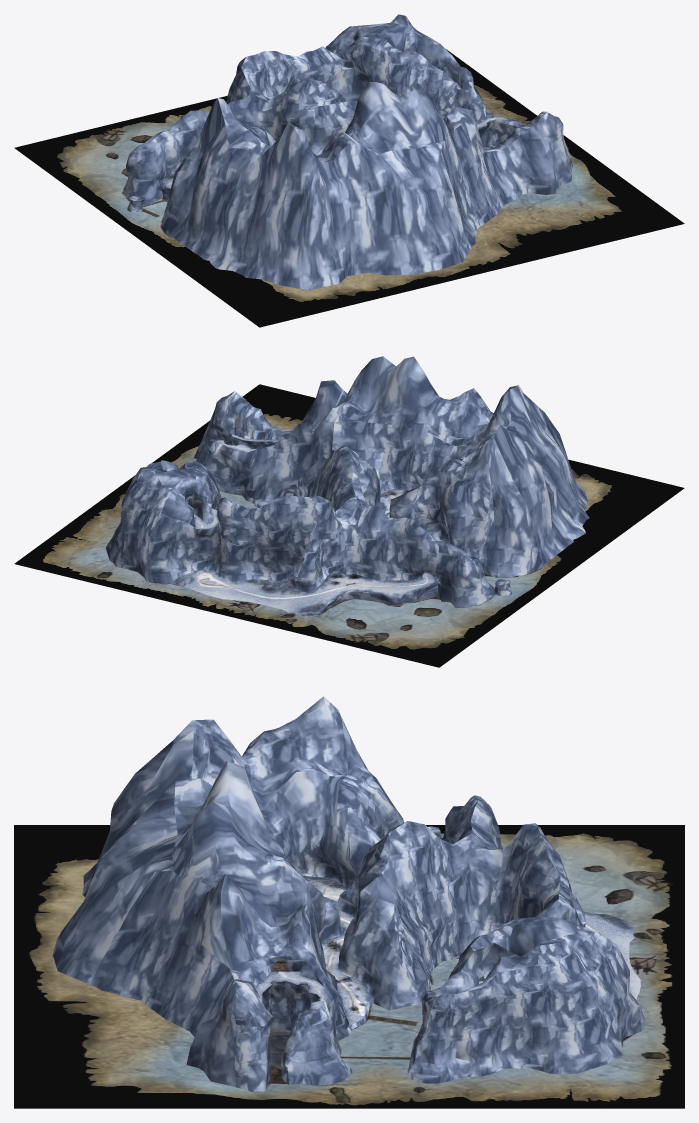
File: pir_m_are_isl_ravensCove.fbx
3 views of the same model, one above another, from view 1: azimuth 30°, elevation 25°; view 2: azimuth 150°, elevation 25°; view 3: azimuth 270°, elevation 25° (orthographic). The views are drawn at different scales.
Visible parts, largest first — view 1: minimap, rockFormation_08, rockFormation_04, rockFormation_09, rockFormation_06, rockFormation_05, rockFormation_02, rockFormation_03, rockFormation_043, rockFormation_051, rockFormation_055, rockFormation_065 (+14 smaller); view 2: minimap, rockFormation_047, rockFormation_027, rockFormation_045, rockFormation_010, rockFormation_09, rockFormation_08, rockFormation_014, rockFormation_046, rockFormation_020, rockFormation_049, rockFormation_032 (+24 smaller); view 3: minimap, rockFormation_050, rockFormation_03, rockFormation_042, rockFormation_014, rockFormation_030, rockFormation_043, rockFormation_029, rockFormation_06, rockFormation_015, rockFormation_055, rockFormation_02 (+26 smaller).
Part boxes in pixels (x1=…): minimap: x1=14, y1=49, x2=684, y2=327; rockFormation_08: x1=216, y1=122, x2=327, y2=290; rockFormation_04: x1=306, y1=193, x2=462, y2=290; rockFormation_09: x1=166, y1=98, x2=250, y2=268; rockFormation_06: x1=359, y1=89, x2=453, y2=196; rockFormation_05: x1=314, y1=141, x2=414, y2=230; rockFormation_02: x1=485, y1=112, x2=572, y2=204; rockFormation_03: x1=430, y1=152, x2=504, y2=262; rockFormation_043: x1=241, y1=46, x2=354, y2=101; rockFormation_051: x1=405, y1=51, x2=486, y2=123; rockFormation_055: x1=354, y1=14, x2=451, y2=61; rockFormation_065: x1=350, y1=44, x2=407, y2=101; minimap: x1=14, y1=384, x2=684, y2=667; rockFormation_047: x1=219, y1=495, x2=319, y2=592; rockFormation_027: x1=380, y1=388, x2=480, y2=490; rockFormation_045: x1=344, y1=505, x2=441, y2=580; rockFormation_010: x1=488, y1=425, x2=540, y2=577; rockFormation_09: x1=500, y1=424, x2=585, y2=568; rockFormation_08: x1=507, y1=385, x2=589, y2=532; rockFormation_014: x1=343, y1=356, x2=438, y2=411; rockFormation_046: x1=305, y1=496, x2=365, y2=592; rockFormation_020: x1=247, y1=422, x2=310, y2=501; rockFormation_049: x1=134, y1=514, x2=183, y2=583; rockFormation_032: x1=441, y1=485, x2=490, y2=558; minimap: x1=14, y1=825, x2=684, y2=1108; rockFormation_050: x1=407, y1=942, x2=623, y2=1083; rockFormation_03: x1=57, y1=885, x2=229, y2=1031; rockFormation_042: x1=376, y1=821, x2=470, y2=1010; rockFormation_014: x1=169, y1=760, x2=270, y2=926; rockFormation_030: x1=253, y1=770, x2=359, y2=889; rockFormation_043: x1=453, y1=823, x2=560, y2=953; rockFormation_029: x1=242, y1=696, x2=378, y2=803; rockFormation_06: x1=98, y1=781, x2=215, y2=909; rockFormation_015: x1=185, y1=874, x2=275, y2=987; rockFormation_055: x1=470, y1=917, x2=617, y2=987; rockFormation_02: x1=186, y1=969, x2=250, y2=1091.
Size of the model in its own units: 190981 by 65595 by 190982.
Materials: 3 (3 with a texture image).
